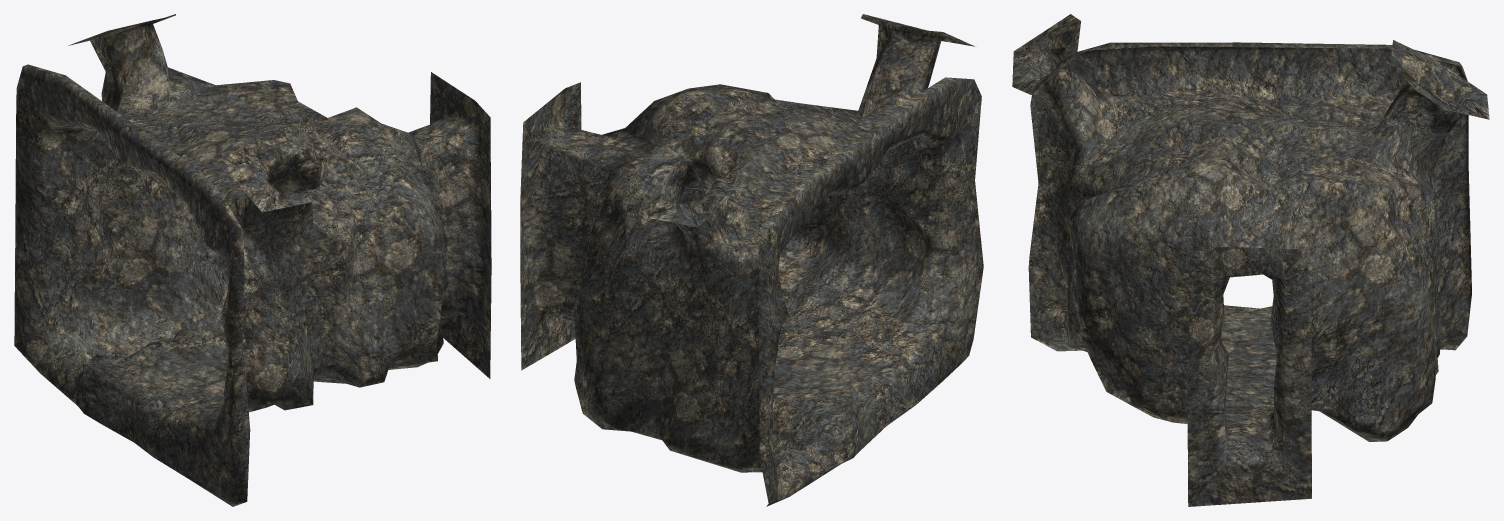
File: Module15A_LOD1.fbx
3 views of the same model, side by side, from view 1: azimuth 30°, elevation 25°; view 2: azimuth 150°, elevation 25°; view 3: azimuth 270°, elevation 25° (orthographic). The views are drawn at different scales.
Parts seen in each view (by area): view 1: cave_el15A_1800_Group31554; view 2: cave_el15A_1800_Group31554; view 3: cave_el15A_1800_Group31554.
Part boxes in pixels (box(x1,y1,x2,y2)): cave_el15A_1800_Group31554: box(14, 14, 491, 506); cave_el15A_1800_Group31554: box(520, 14, 983, 506); cave_el15A_1800_Group31554: box(1012, 14, 1489, 506).
Bounding box in the file's own units: 32.54 × 30.65 × 38.84.
